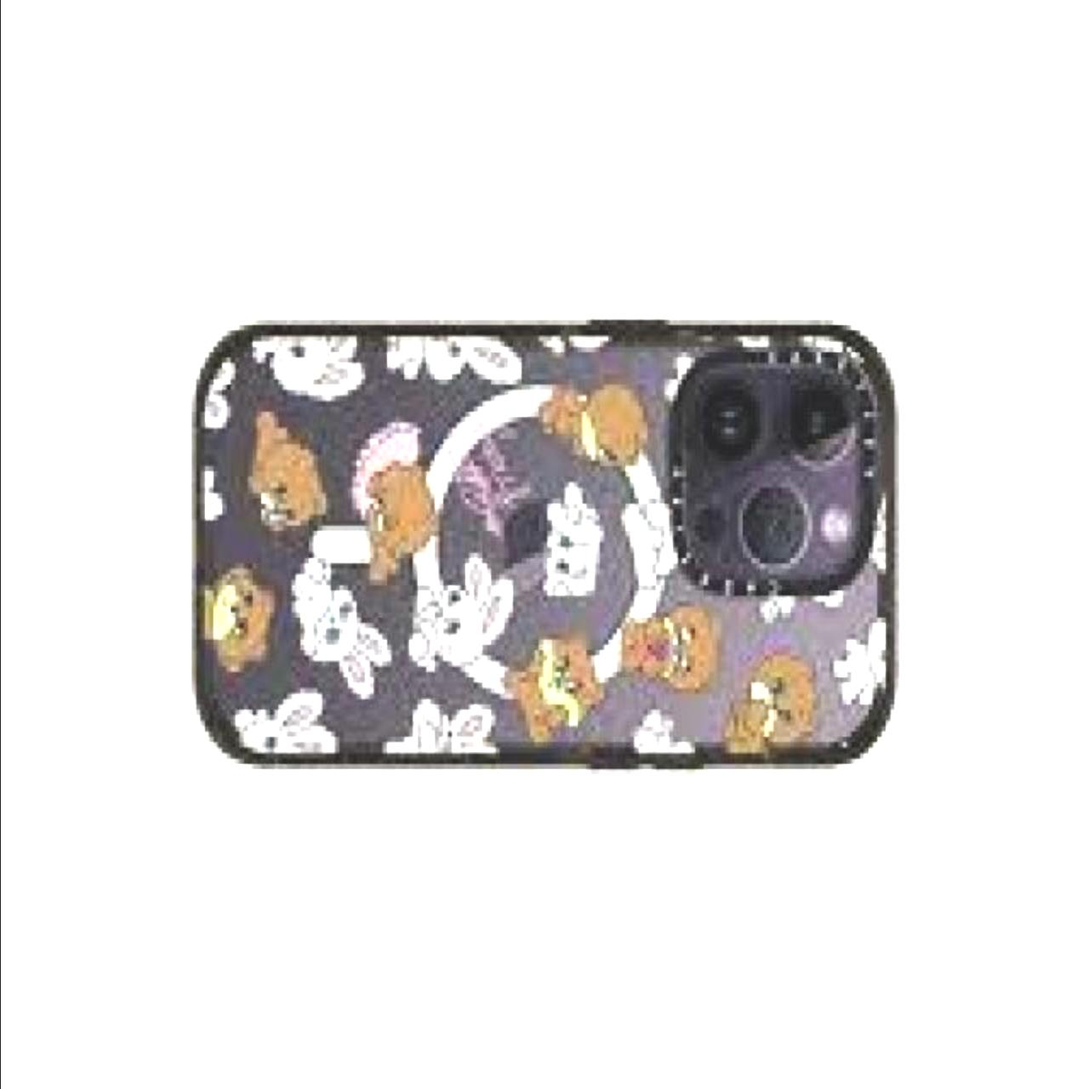phone: (184, 313, 909, 779)
